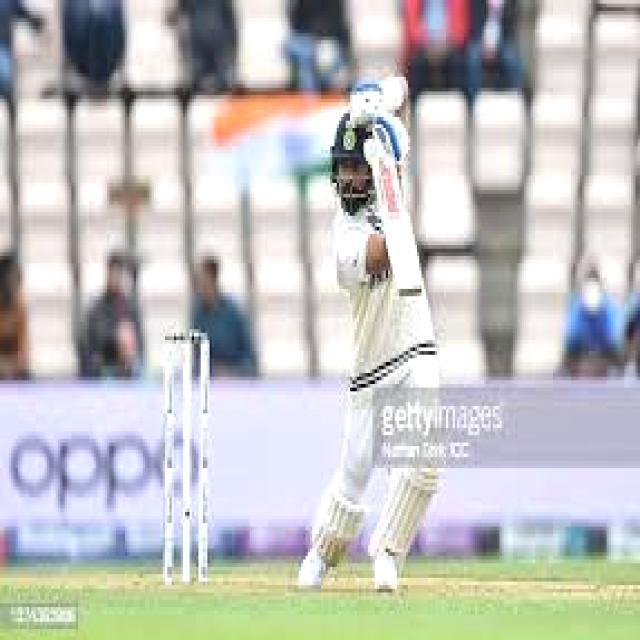bat: (364, 133, 430, 304)
toe: (395, 283, 424, 299)
